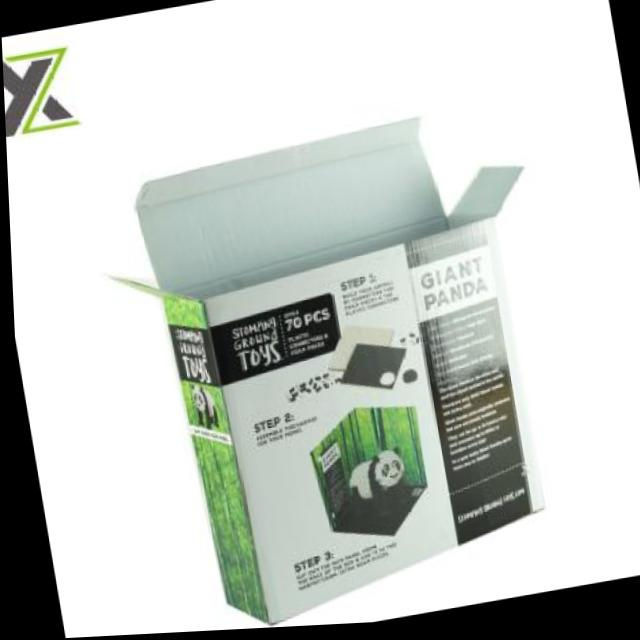box: (82, 80, 590, 637)
